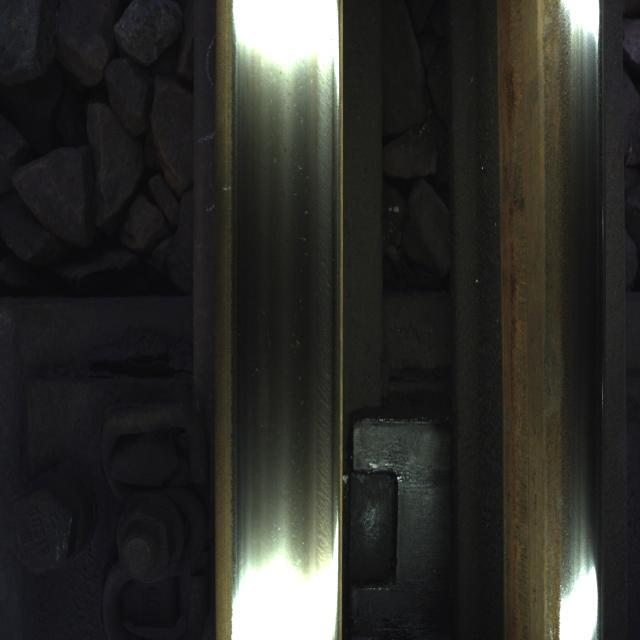break: (235, 14, 331, 598)
